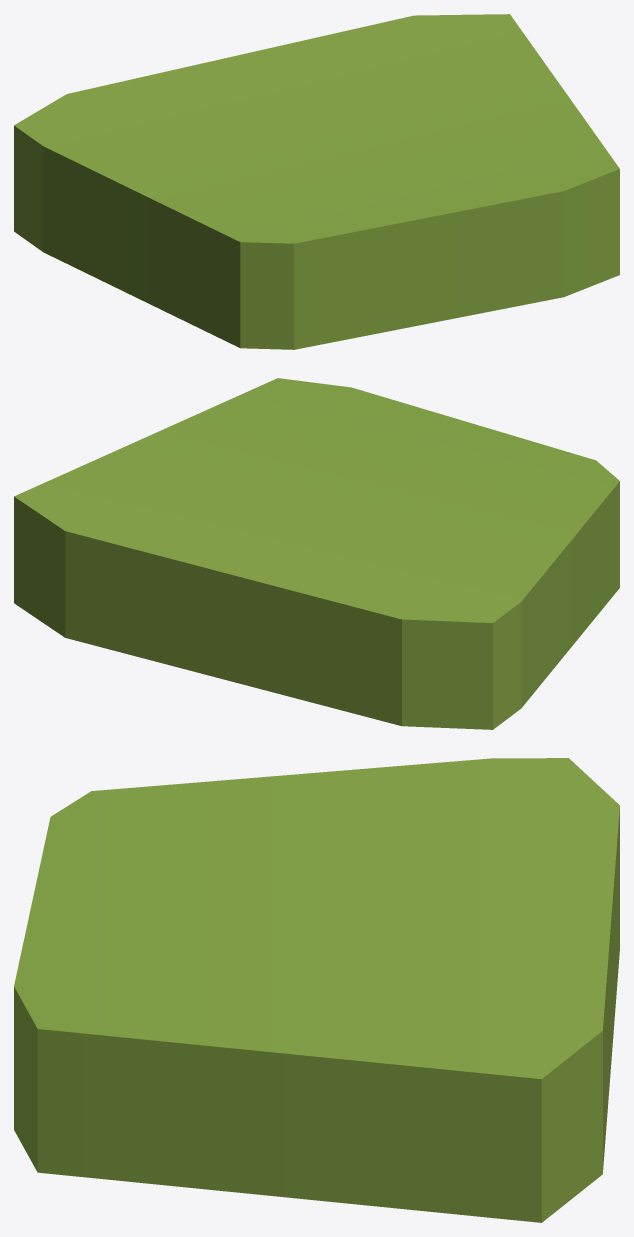
File: Tile_05.fbx
3 renders of one model, top to bottom at view 1: azimuth 30°, elevation 25°; view 2: azimuth 150°, elevation 25°; view 3: azimuth 270°, elevation 25°, orthographic. The views are drawn at different scales.
Parts seen in each view (by area): view 1: Tile_05; view 2: Tile_05; view 3: Tile_05.
Part boxes in pixels (x1,y1,x2,y2): Tile_05: (14, 14, 619, 349); Tile_05: (14, 378, 619, 729); Tile_05: (14, 758, 619, 1222).
Size of the model in its own units: 0.4405 by 0.0919 by 0.3512.
